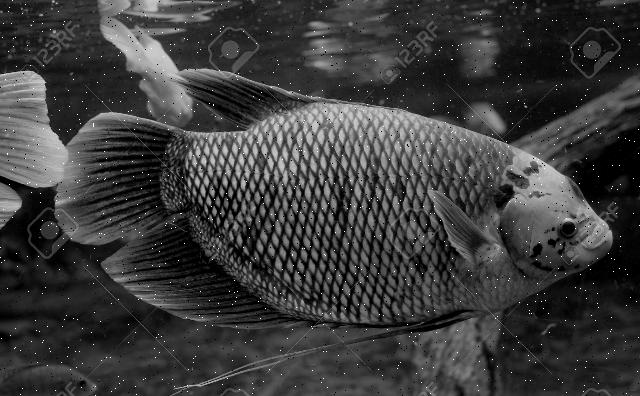Mulut: (573, 208, 623, 268)
Sirip Anal: (91, 204, 319, 342)
Sirip Dada: (420, 179, 508, 284)
Sirip Ekor: (46, 100, 208, 250)
Sirip Punggung: (161, 51, 351, 151)
